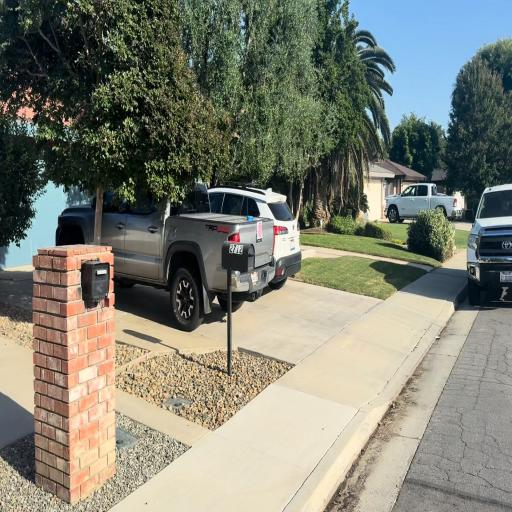bullseye: (257, 221, 262, 239)
